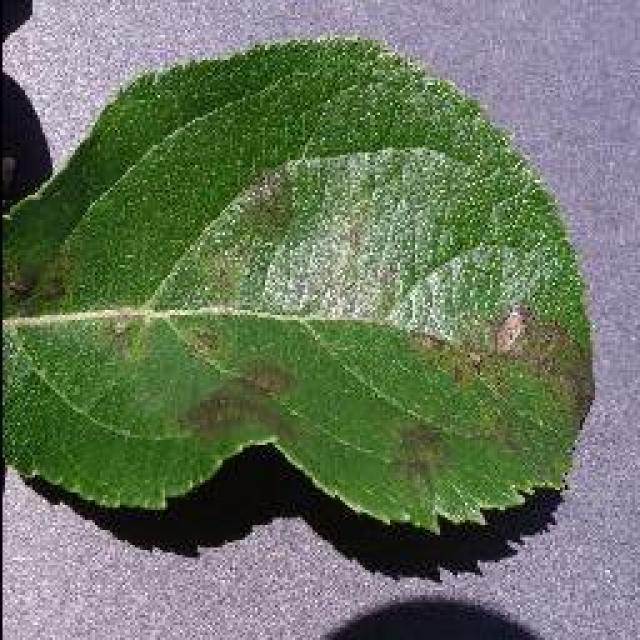apple scab disease: (0, 32, 598, 538)
